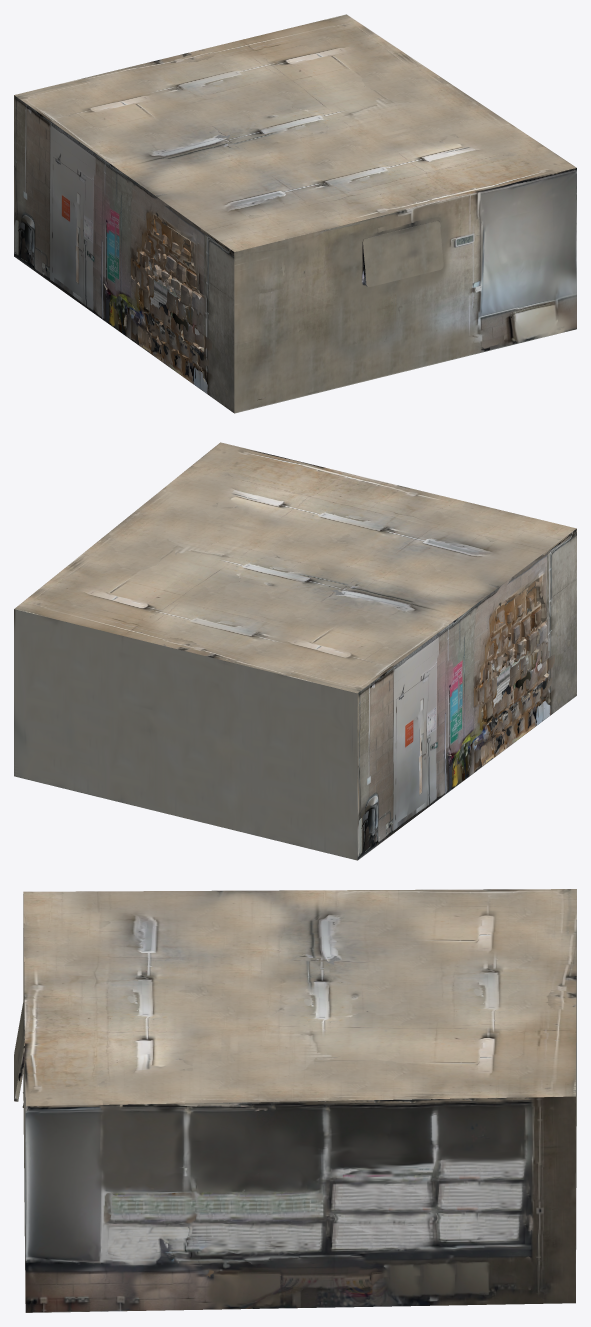
3 views of the same model, one above another, from view 1: azimuth 30°, elevation 25°; view 2: azimuth 150°, elevation 25°; view 3: azimuth 270°, elevation 25° (orthographic). The views are drawn at different scales.
Visible parts, largest first — view 1: 1_m104dv2-IM; view 2: 1_m104dv2-IM; view 3: 1_m104dv2-IM.
Boxes of the visible parts, x1,y1,x2,y2 form: 1_m104dv2-IM: (14, 14, 576, 413); 1_m104dv2-IM: (14, 442, 576, 860); 1_m104dv2-IM: (14, 889, 576, 1312).
Bounding box in the file's own units: 714 × 315 × 777.
1 material, 1 textured.
